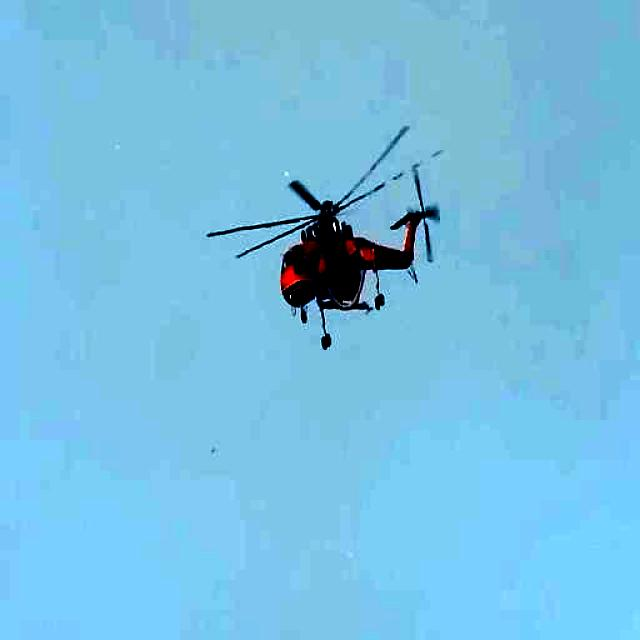drone: (204, 129, 449, 359)
